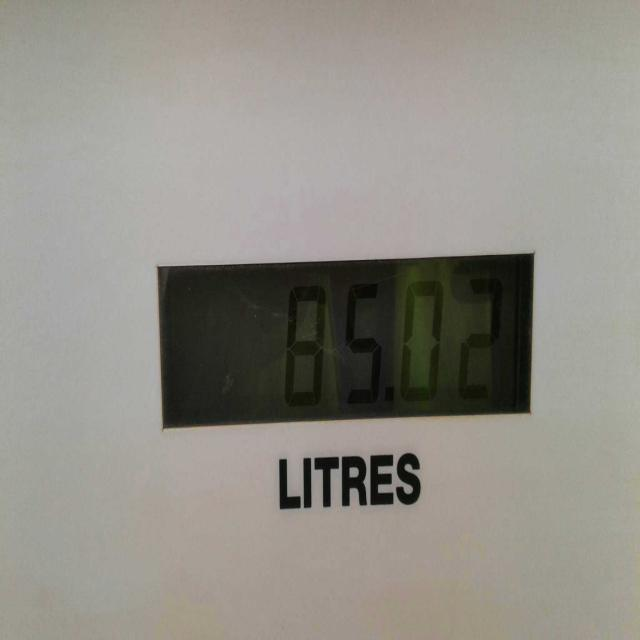.: (380, 381, 401, 408)
0: (397, 271, 446, 419)
2: (454, 266, 509, 410)
5: (335, 278, 393, 416)
8: (278, 278, 329, 423)
